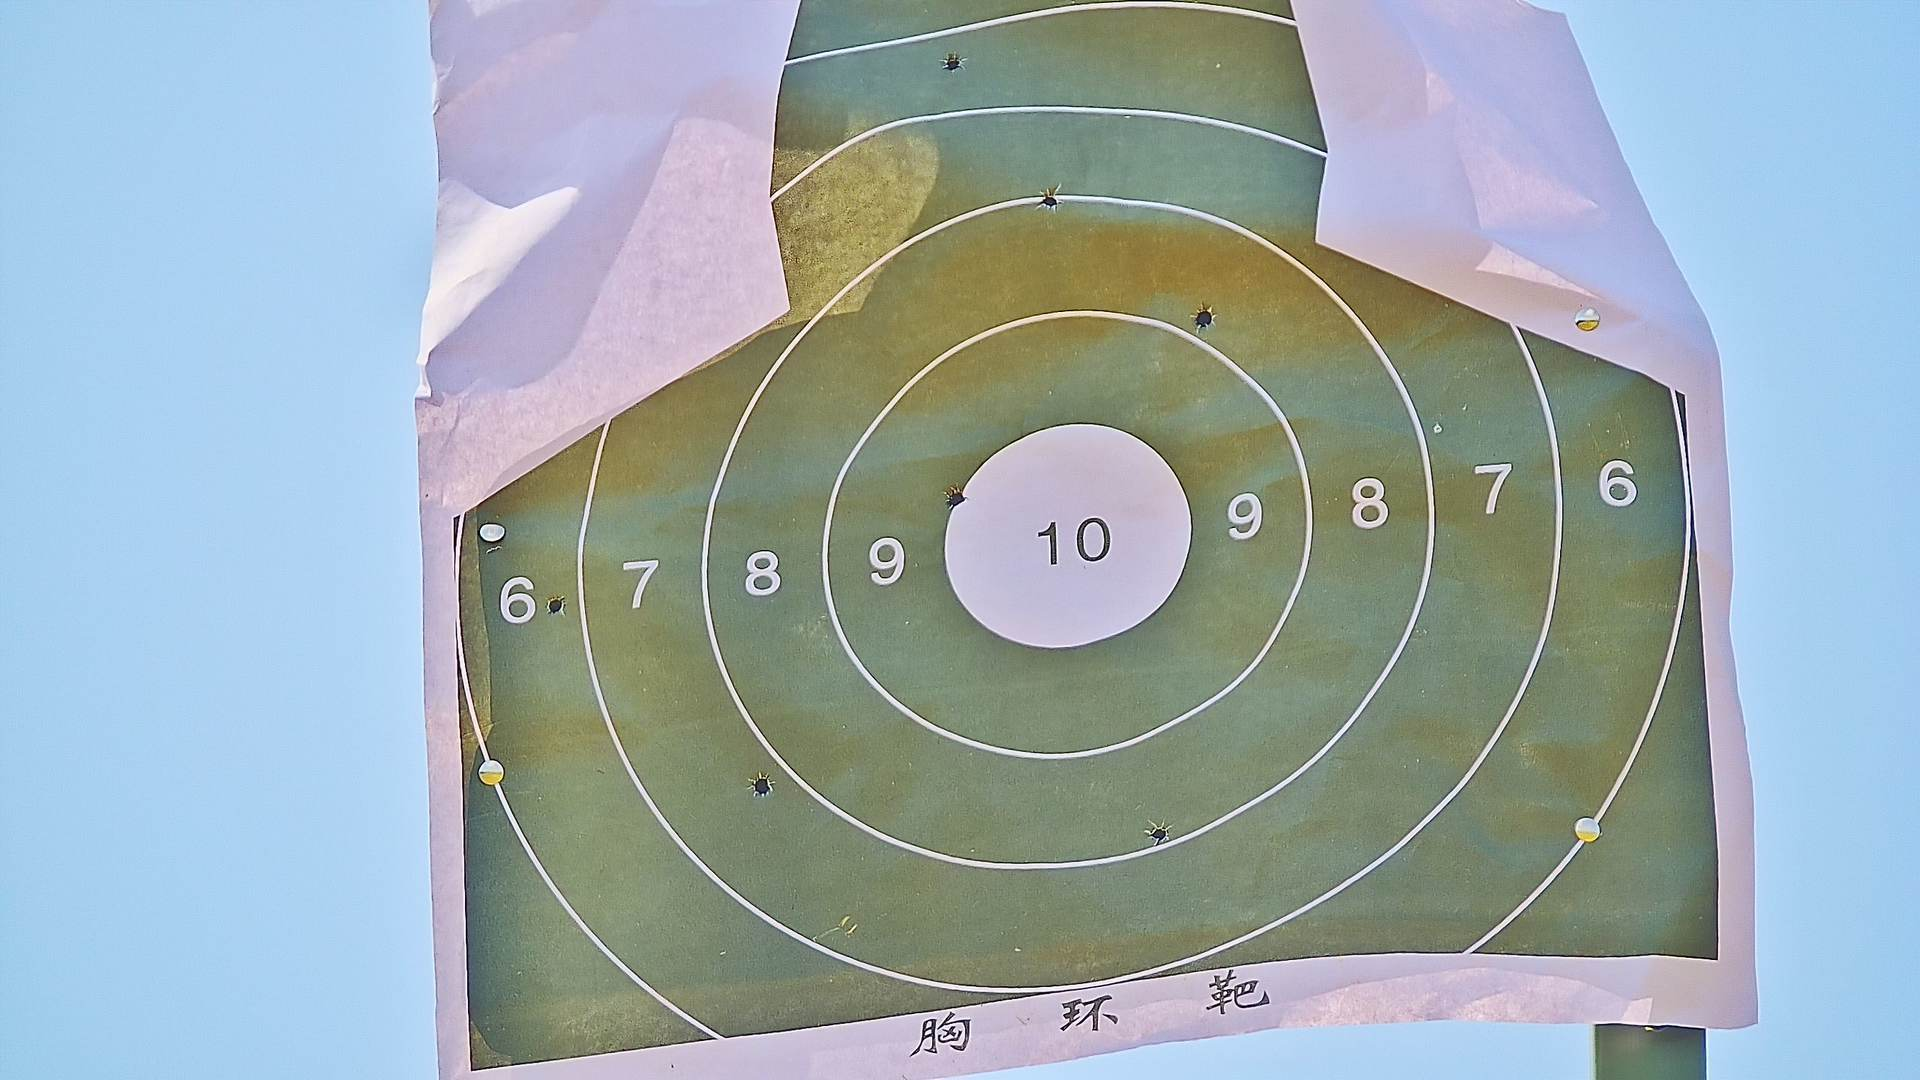hole: (1195, 307, 1216, 328), (1149, 825, 1170, 847), (945, 489, 968, 508), (752, 774, 770, 796), (1040, 194, 1064, 211), (943, 54, 961, 73), (547, 597, 564, 612)
kernel: (1063, 541, 1071, 545)
target: (444, 3, 1727, 1069)
ten: (942, 425, 1192, 655)
